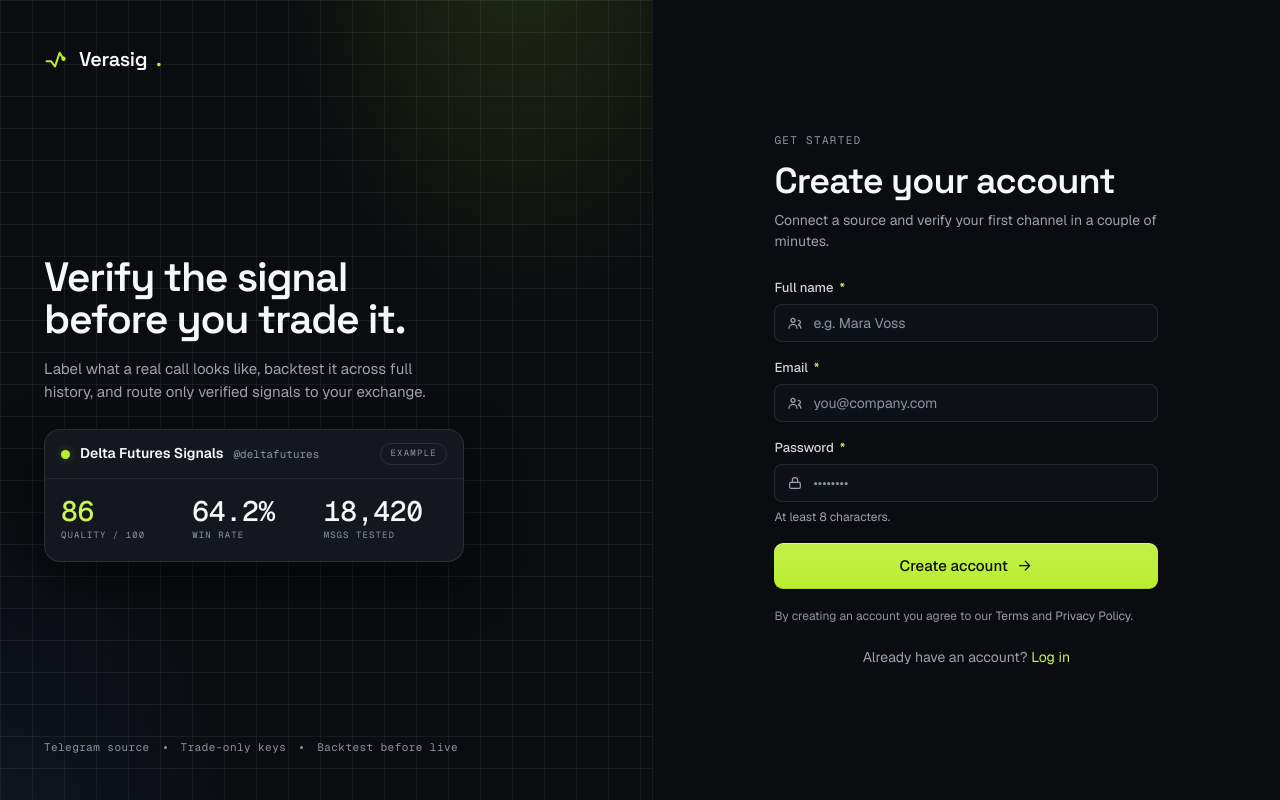
Scenario: RegisterView › shows inline error for invalid characters in full name
In the field labelled "Full name": (978, 323) left=811, top=313, right=1145, bottom=333, type "Ada 123"
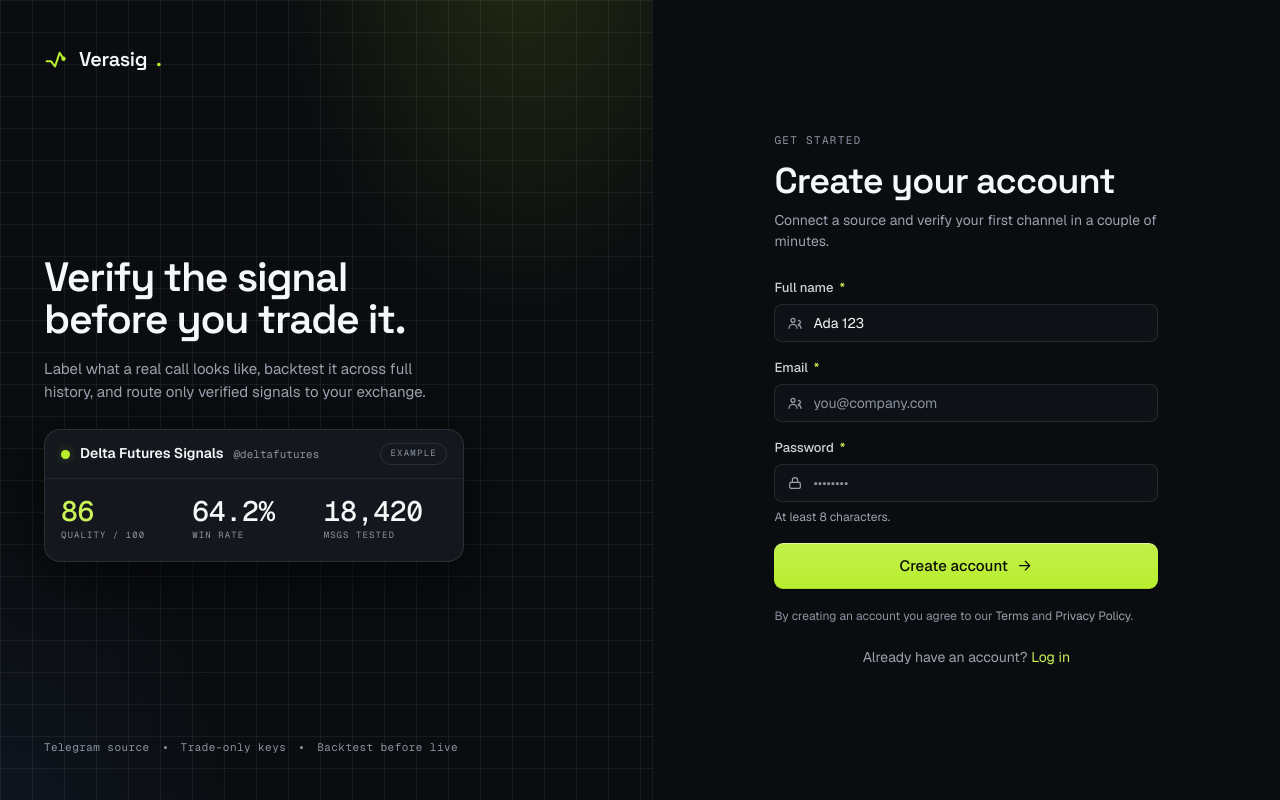
Submit the text "Create account", box left=774, top=278, right=1158, bottom=589
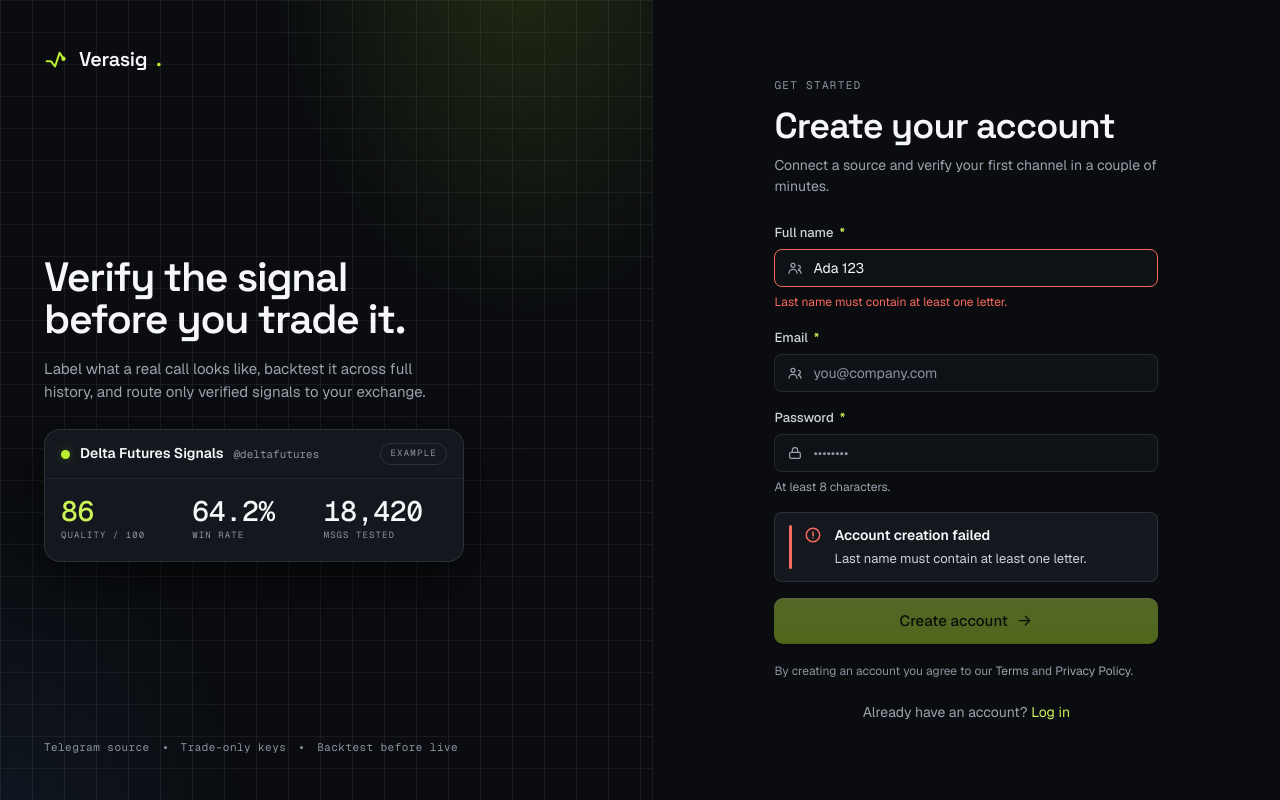
Expected: the text "Last name must contain at least one letter." below "Full name" is shown, left=774, top=294, right=1007, bottom=310
